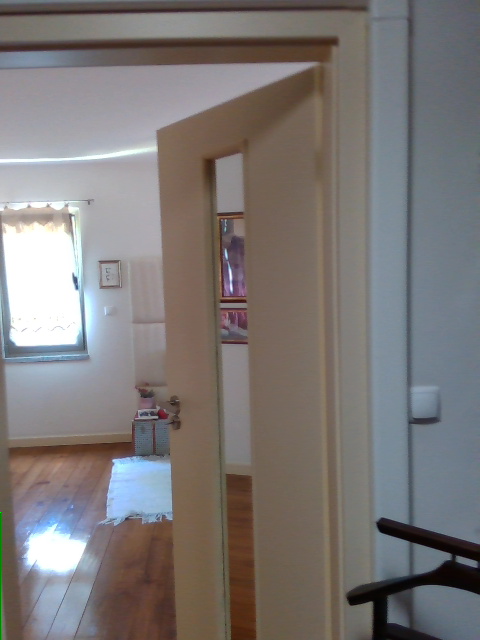semi: (0, 0, 378, 639)
